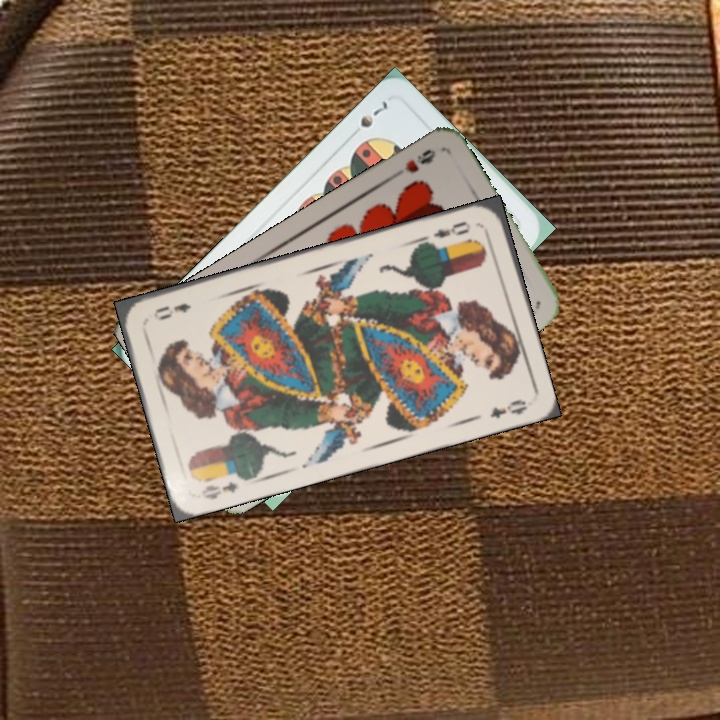EO: (429, 217, 473, 241), (197, 477, 239, 502)
H9: (387, 144, 439, 182)
S7: (356, 96, 393, 131)
